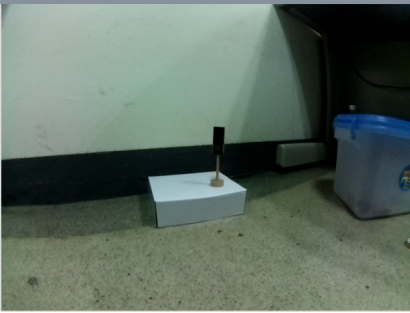Green: (212, 124, 225, 158)
